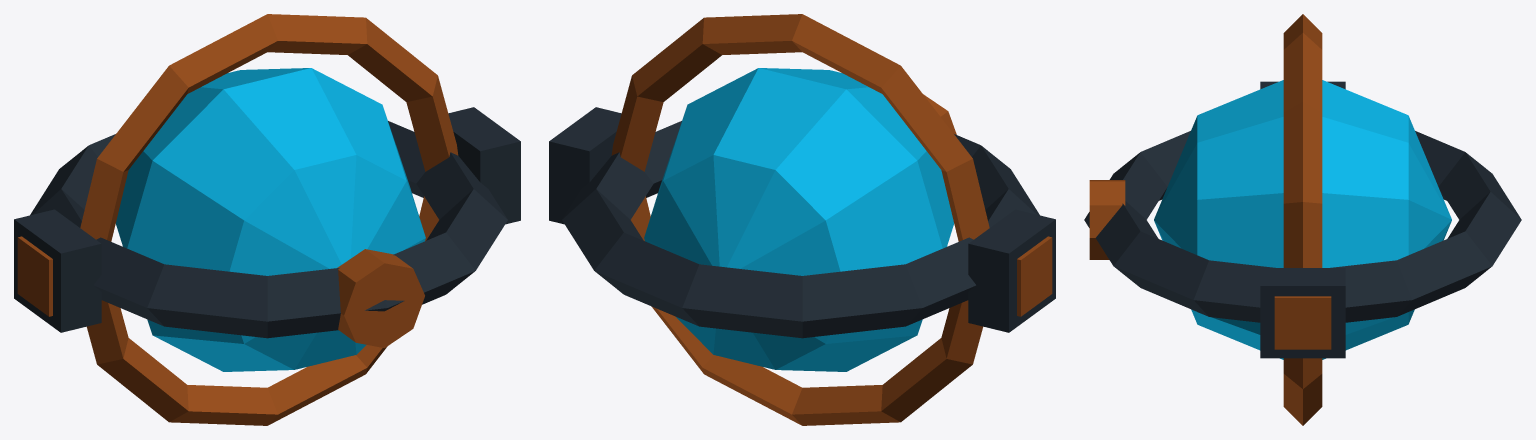
File: SM_D02Bomb.obj
3 views of the same model, side by side, from view 1: azimuth 30°, elevation 25°; view 2: azimuth 150°, elevation 25°; view 3: azimuth 270°, elevation 25° (orthographic). The views are drawn at different scales.
Visible parts, largest first — view 1: SM_D02Bomb_Glow, SM_D02Bomb_Copper, SM_D02Bomb_Metal; view 2: SM_D02Bomb_Glow, SM_D02Bomb_Metal, SM_D02Bomb_Copper; view 3: SM_D02Bomb_Glow, SM_D02Bomb_Metal, SM_D02Bomb_Copper.
Boxes of the visible parts, left/top/right/bottom form: SM_D02Bomb_Glow: left=116, top=68, right=425, bottom=371; SM_D02Bomb_Copper: left=17, top=14, right=458, bottom=425; SM_D02Bomb_Metal: left=14, top=107, right=520, bottom=338; SM_D02Bomb_Glow: left=644, top=68, right=953, bottom=371; SM_D02Bomb_Metal: left=549, top=107, right=1055, bottom=338; SM_D02Bomb_Copper: left=611, top=14, right=1052, bottom=425; SM_D02Bomb_Glow: left=1154, top=80, right=1451, bottom=359; SM_D02Bomb_Metal: left=1084, top=81, right=1521, bottom=358; SM_D02Bomb_Copper: left=1089, top=14, right=1331, bottom=425.
Size of the model in its own units: 34.6 by 29.1 by 30.8.
